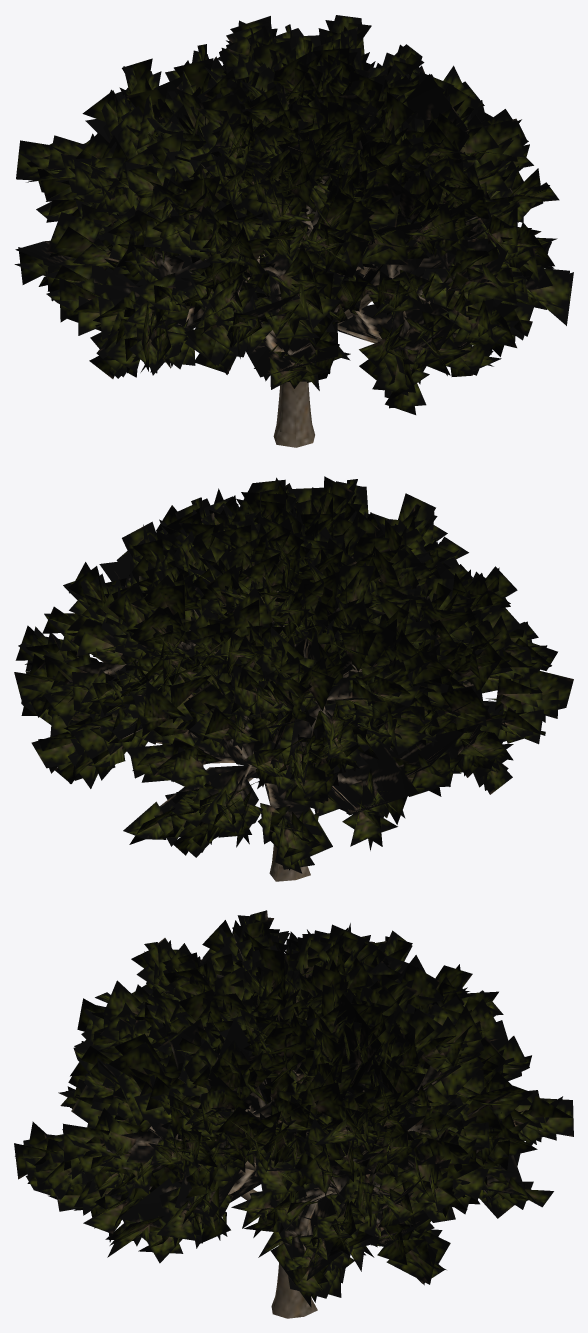
File: tree1.obj
3 renders of one model, top to bottom at view 1: azimuth 30°, elevation 25°; view 2: azimuth 150°, elevation 25°; view 3: azimuth 270°, elevation 25°, orthographic. The views are drawn at different scales.
Parts seen in each view (by area): view 1: BAKE; view 2: BAKE; view 3: BAKE.
Boxes of the visible parts, bbox=[...] form: BAKE: bbox=[14, 15, 573, 447]; BAKE: bbox=[14, 476, 573, 881]; BAKE: bbox=[14, 910, 573, 1318].
Bounding box in the file's own units: 84.11 × 65.47 × 86.68.
Materials: 1 (1 with a texture image).
